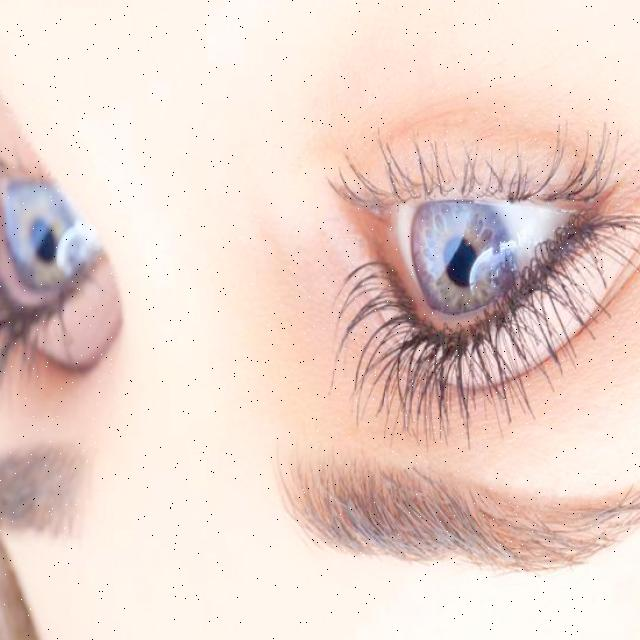puffy_eyes: (344, 69, 615, 194)
